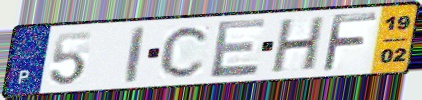5: (48, 29, 96, 87)
C: (157, 24, 213, 80)
E: (208, 16, 269, 81)
F: (319, 11, 380, 74)
H: (268, 14, 329, 76)
I: (124, 24, 148, 85)
